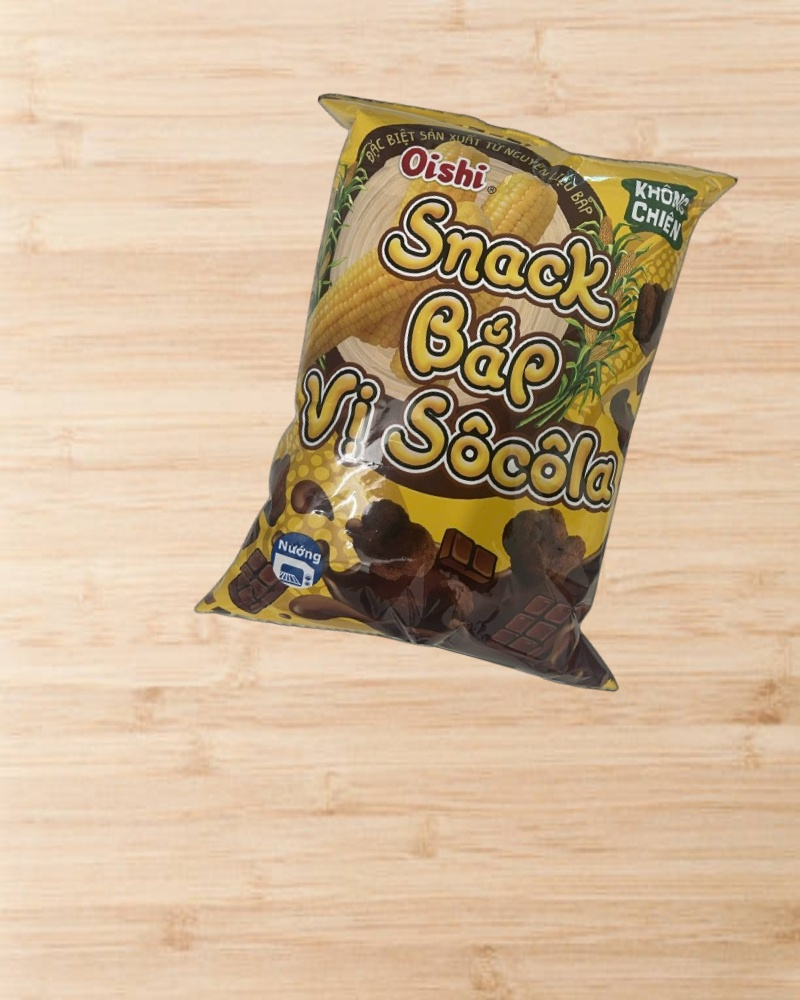Snack socola: (187, 72, 753, 712)
